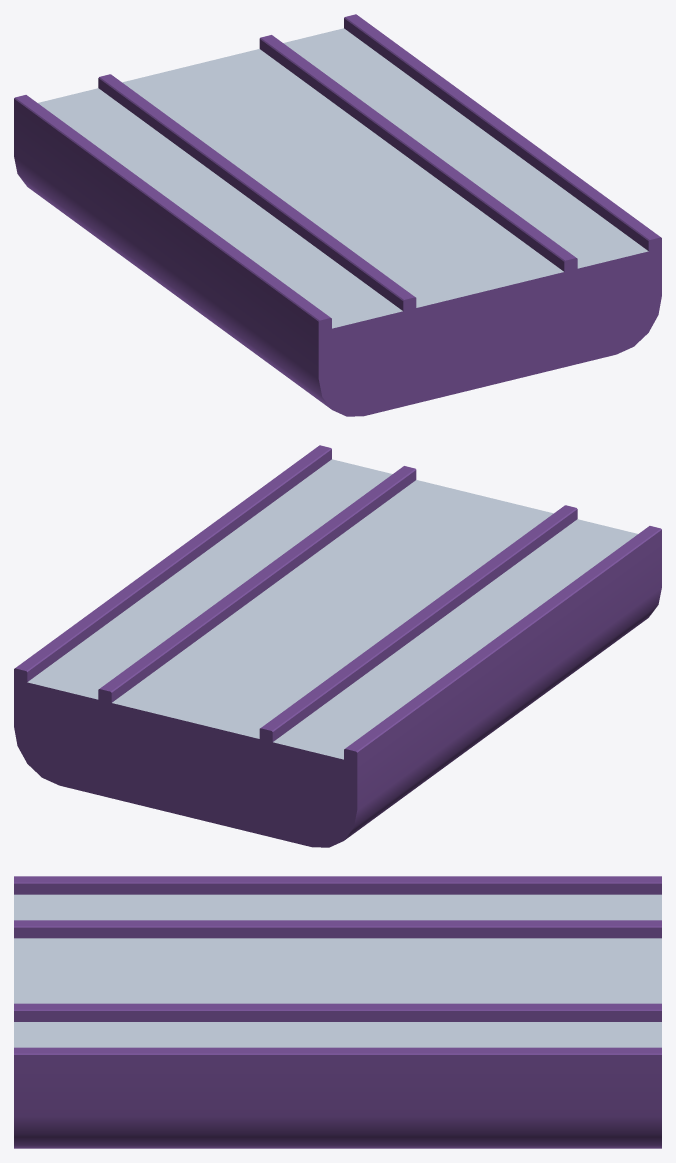
Rendered from SM_Platform_Fly.fbx.
3 renders of one model, top to bottom at view 1: azimuth 30°, elevation 25°; view 2: azimuth 150°, elevation 25°; view 3: azimuth 270°, elevation 25°, orthographic. The views are drawn at different scales.
Parts seen in each view (by area): view 1: SM_Platform_Fly_01, SM_Platform_Fly_02; view 2: SM_Platform_Fly_01, SM_Platform_Fly_02; view 3: SM_Platform_Fly_01, SM_Platform_Fly_02.
Part boxes in pixels (x1,y1,x2,y2): SM_Platform_Fly_01: (14, 14, 661, 416); SM_Platform_Fly_02: (98, 35, 577, 396); SM_Platform_Fly_01: (14, 445, 661, 847); SM_Platform_Fly_02: (98, 466, 577, 826); SM_Platform_Fly_01: (14, 876, 661, 1148); SM_Platform_Fly_02: (14, 920, 661, 1021).
Bounding box in the file's own units: 650 × 193 × 1000.
